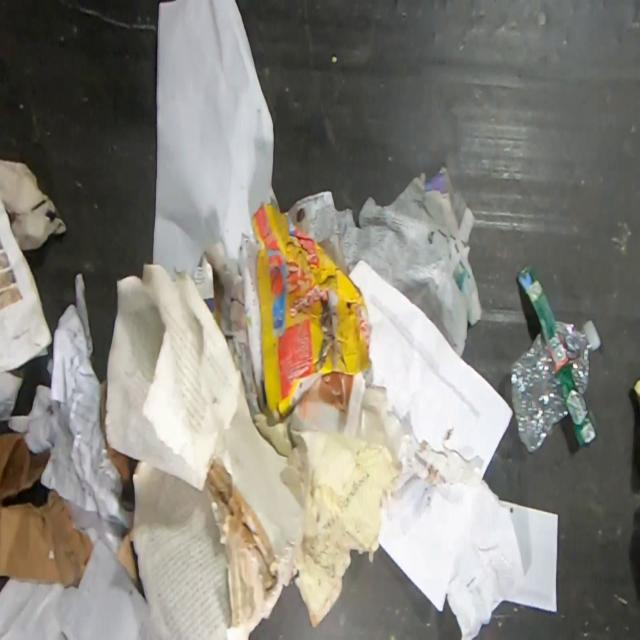cardboard: (252, 202, 371, 425), (0, 422, 94, 587), (108, 448, 136, 493), (100, 381, 107, 448)
rigid_plastic: (510, 265, 601, 453)
